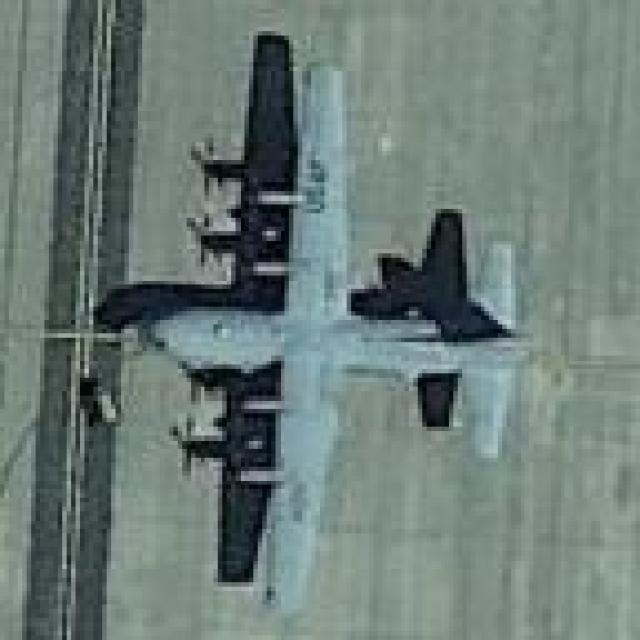C-130_TopDown: (81, 25, 544, 612)
